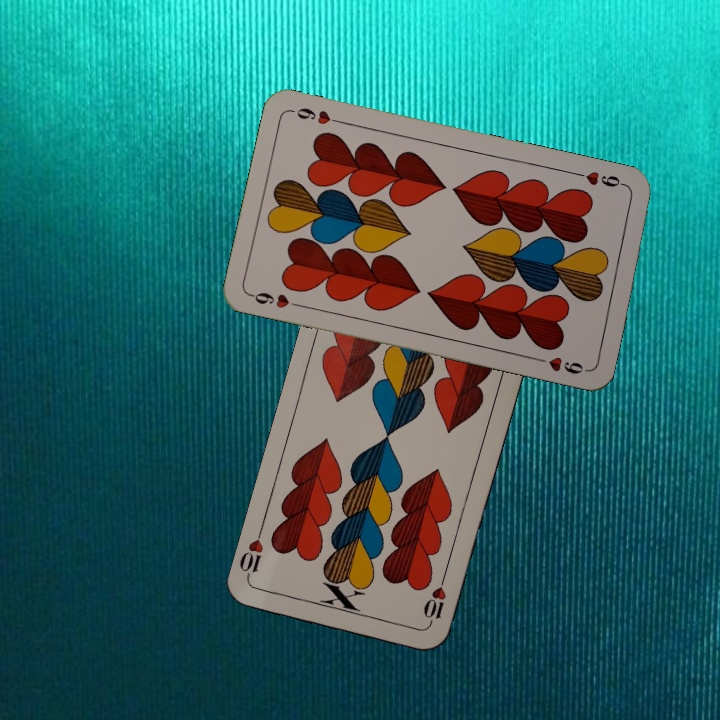H10: (419, 573, 449, 631)
H9: (246, 288, 305, 311), (571, 167, 630, 190)
